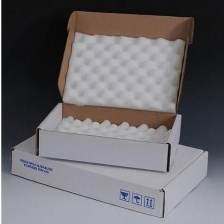book: (28, 3, 197, 174), (6, 122, 213, 220)
foam_box: (58, 27, 190, 115), (49, 112, 175, 146)
